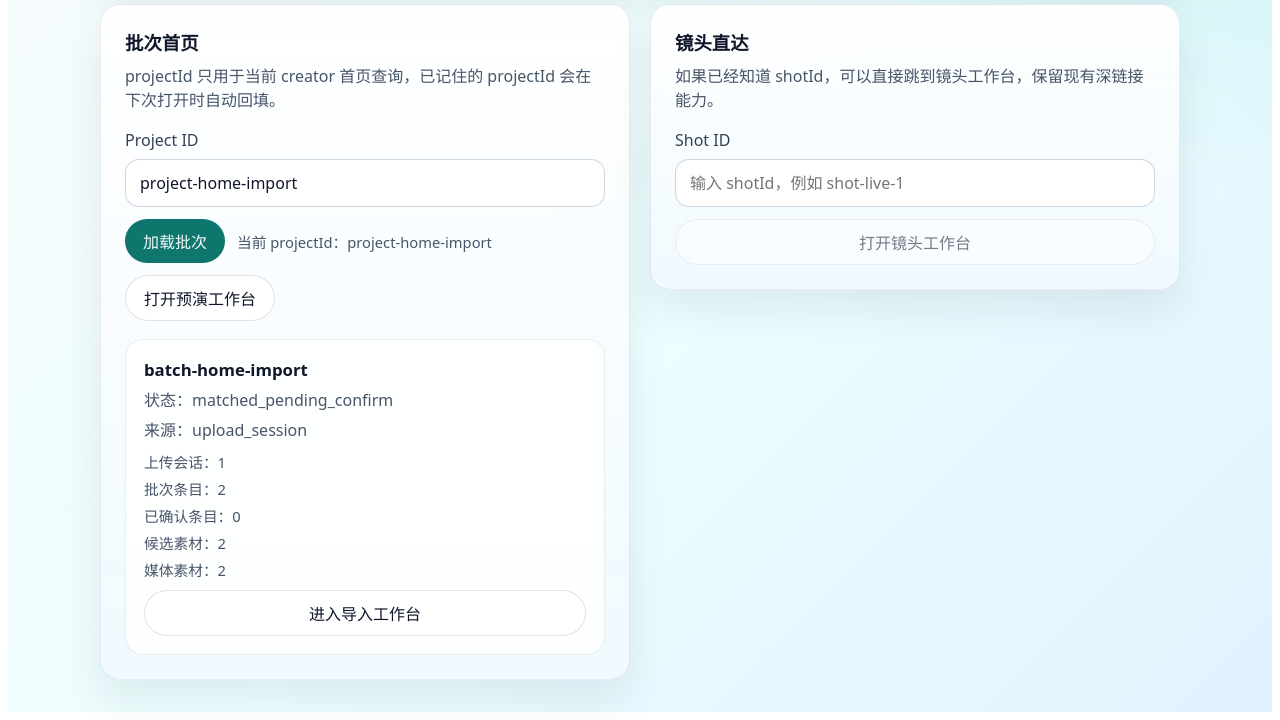
Test: App › opens the import workbench from the homepage batch list action
(page scrolled)
Expected: the heading "batch-home-import" is shown, left=144, top=358, right=308, bottom=381
What coordinates should you click on to do the following:
click the button "进入导入工作台"
I would click on:
 (365, 613)
Its box is left=144, top=590, right=586, bottom=636.
(page scrolled)
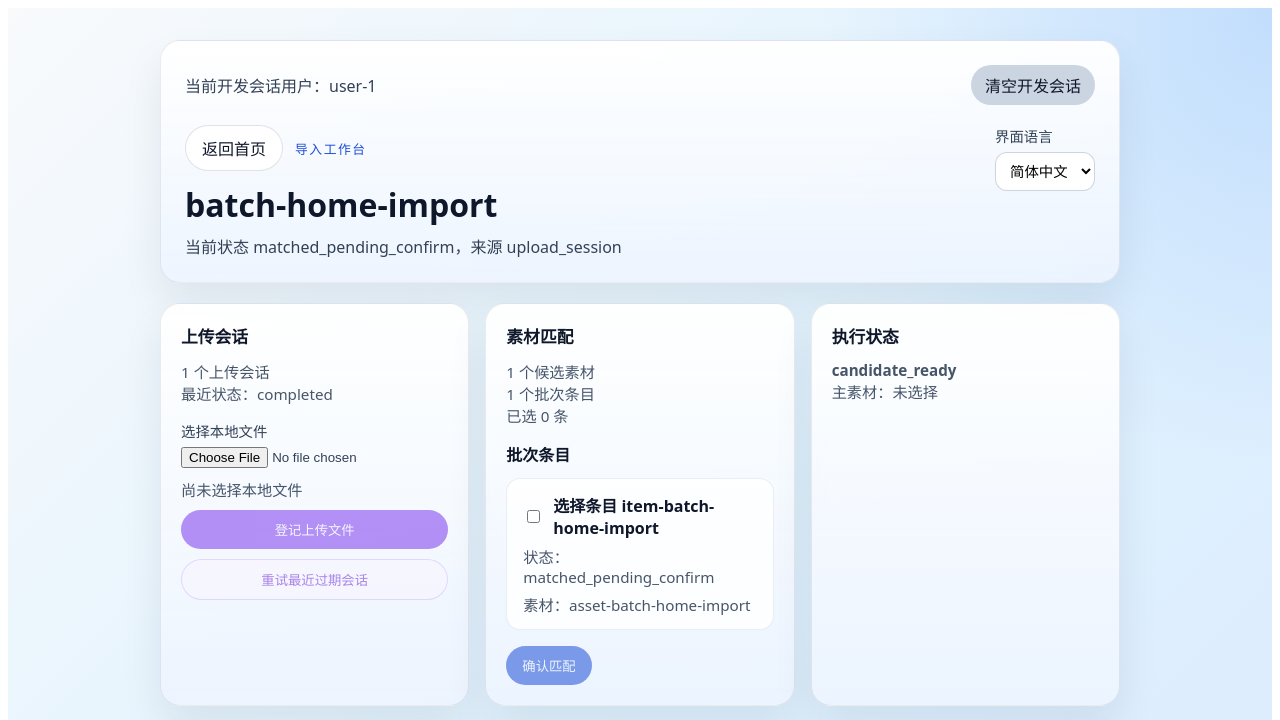
Now the button "确认匹配" is shown, box left=506, top=646, right=592, bottom=685
Now the button "返回首页" is shown, box left=185, top=125, right=283, bottom=171
